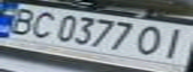0: (48, 11, 78, 44)
3: (72, 15, 96, 47)
7: (112, 19, 139, 53), (90, 16, 115, 51)
B: (0, 5, 42, 35)
C: (21, 9, 60, 39)
I: (154, 25, 193, 60)
O: (130, 22, 172, 56)
